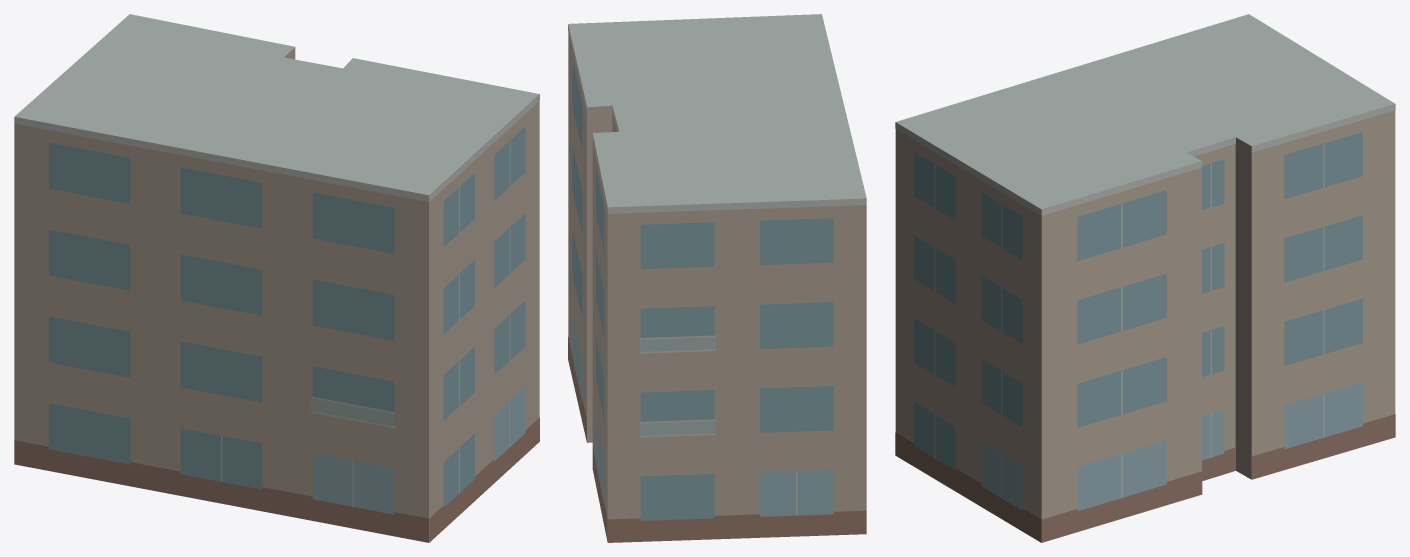
The model's file is survey-upis-33009843.glb.
3 renders of one model, left to right at view 1: azimuth 30°, elevation 25°; view 2: azimuth 150°, elevation 25°; view 3: azimuth 270°, elevation 25°, orthographic. The views are drawn at different scales.
Visible parts, largest first — view 1: survey-upis-33009843.tmp; view 2: survey-upis-33009843.tmp; view 3: survey-upis-33009843.tmp.
Part boxes in pixels (x1,y1,x2,y2): survey-upis-33009843.tmp: (14, 14, 539, 542); survey-upis-33009843.tmp: (568, 14, 866, 542); survey-upis-33009843.tmp: (895, 14, 1395, 542).
Bounding box in the file's own units: 15.72 × 12.5 × 17.
